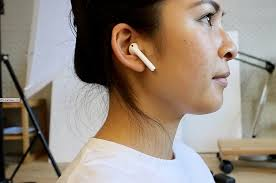earphone: (110, 22, 158, 73)
